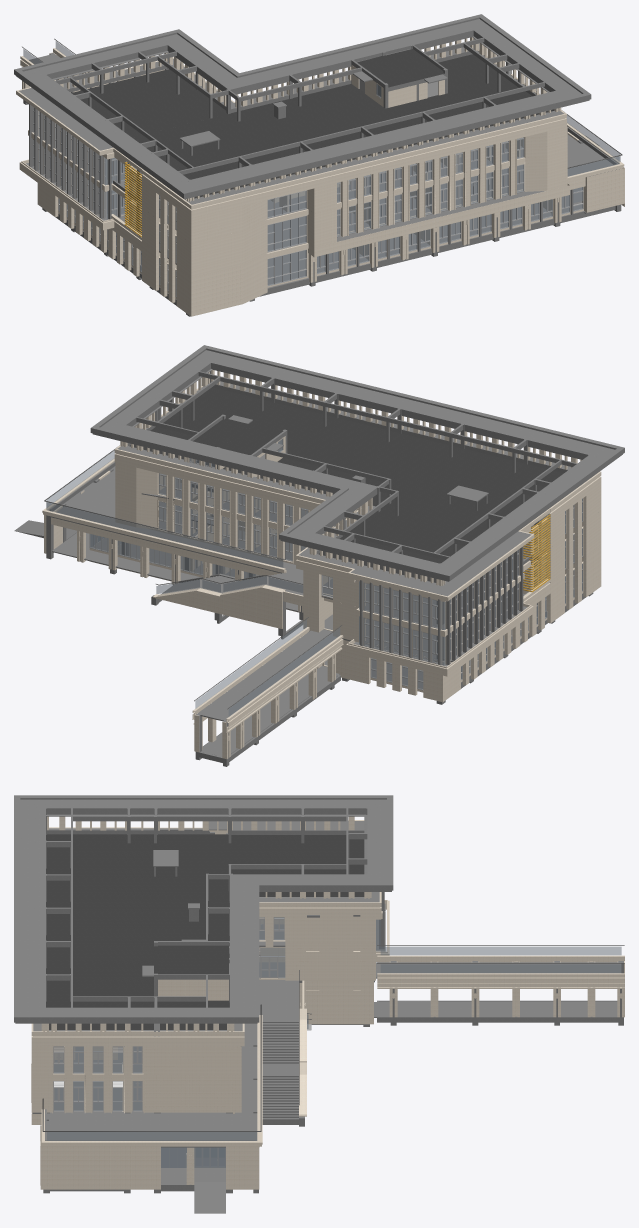
The model's file is 1jxl.gltf.
3 renders of one model, top to bottom at view 1: azimuth 30°, elevation 25°; view 2: azimuth 150°, elevation 25°; view 3: azimuth 270°, elevation 25°, orthographic. The views are drawn at different scales.
Parts seen in each view (by area): view 1: 1jxldc01, 1jxl2c01, 1jxl1c01, 1jxl3c01; view 2: 1jxldc01, 1jxl2c01, 1jxl1c01, 1jxl3c01; view 3: 1jxldc01, 1jxl2c01, 1jxl1c01, 1jxl3c01.
Boxes of the visible parts, x1=… form: 1jxldc01: x1=14, y1=14, x2=591, y2=209; 1jxl2c01: x1=19, y1=38, x2=624, y2=277; 1jxl1c01: x1=20, y1=48, x2=624, y2=316; 1jxl3c01: x1=29, y1=69, x2=567, y2=243; 1jxldc01: x1=90, y1=345, x2=624, y2=601; 1jxl2c01: x1=42, y1=445, x2=601, y2=721; 1jxl1c01: x1=14, y1=468, x2=601, y2=766; 1jxl3c01: x1=114, y1=453, x2=601, y2=631; 1jxldc01: x1=14, y1=795, x2=393, y2=1036; 1jxl2c01: x1=31, y1=900, x2=624, y2=1147; 1jxl1c01: x1=31, y1=955, x2=624, y2=1213; 1jxl3c01: x1=31, y1=830, x2=384, y2=1075.
Bounding box in the file's own units: 65.81 × 17.95 × 62.8.
Materials: 9 (5 with a texture image).
